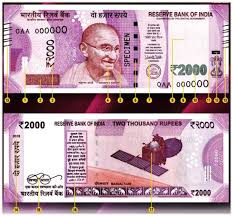twoThousand: (19, 16, 216, 84)
